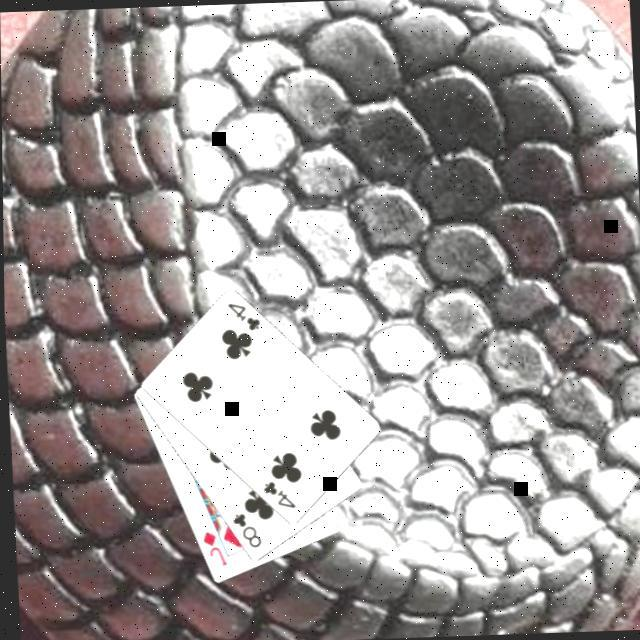4C: (224, 300, 263, 336), (260, 478, 299, 513)
8C: (229, 509, 265, 552)
JD: (198, 528, 230, 570)
